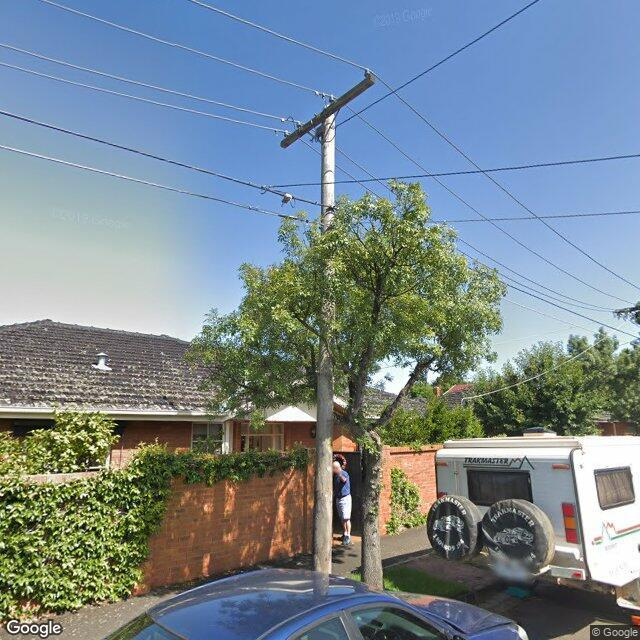crossarm: (281, 75, 375, 149)
timber-pole: (314, 106, 335, 574)
